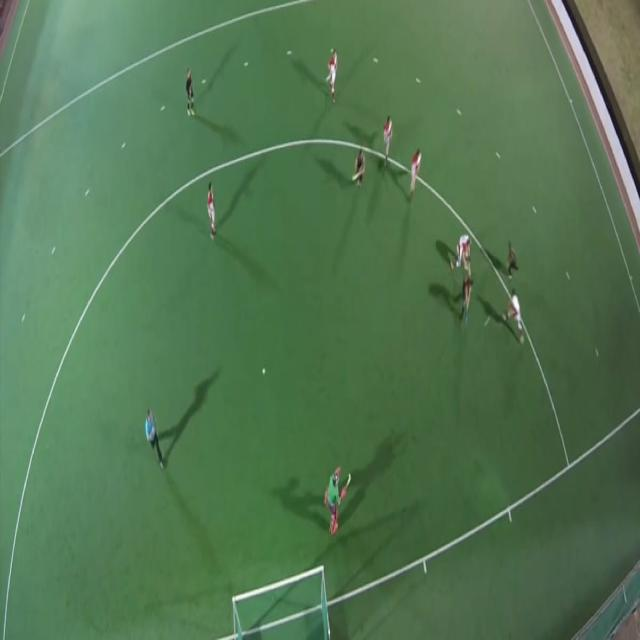humans: (324, 462, 354, 538), (502, 280, 527, 351), (144, 400, 164, 478), (379, 105, 394, 172), (407, 136, 422, 202), (204, 175, 218, 244), (350, 141, 368, 190), (460, 270, 474, 333), (451, 227, 474, 263), (182, 64, 196, 122), (504, 236, 522, 280), (325, 58, 336, 99), (329, 46, 340, 65)
